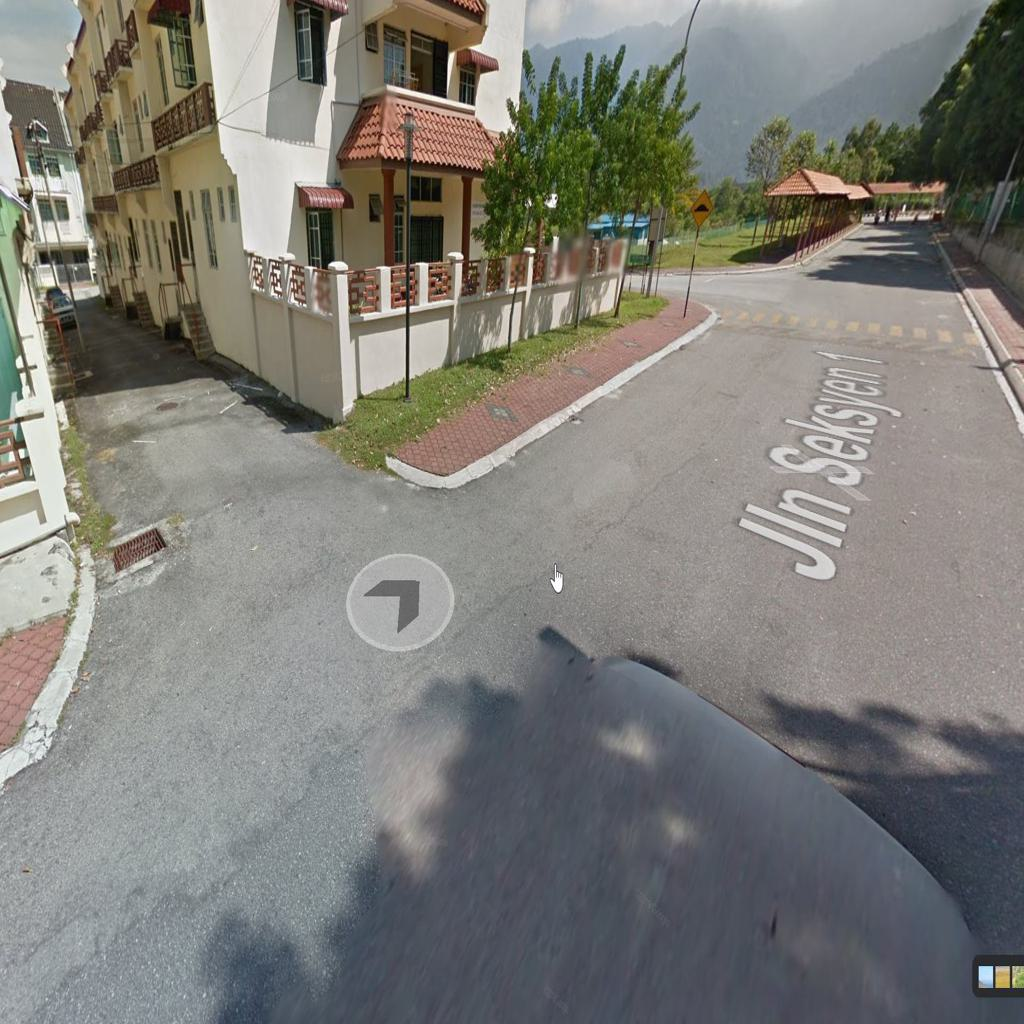Junction: (65, 403, 473, 694), (623, 248, 807, 331)
